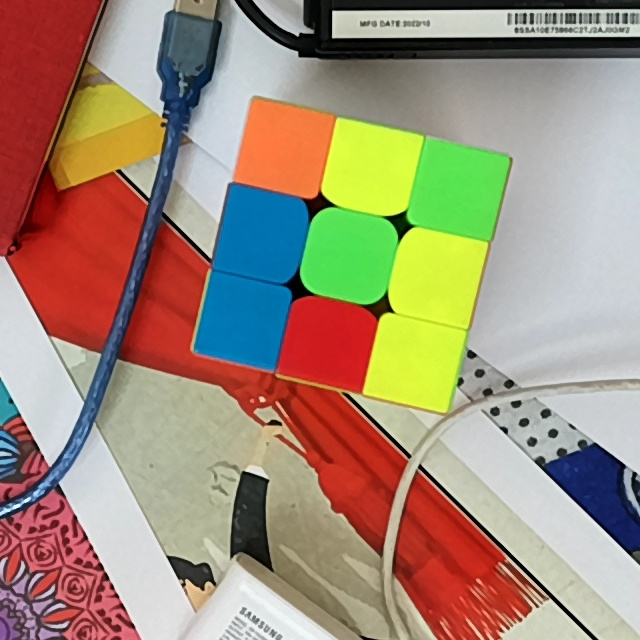tile: (314, 222, 385, 292), (335, 134, 408, 201), (379, 327, 447, 397), (425, 154, 493, 223), (291, 310, 362, 376), (227, 201, 294, 270), (208, 288, 280, 352), (403, 245, 469, 314), (248, 118, 317, 182)
